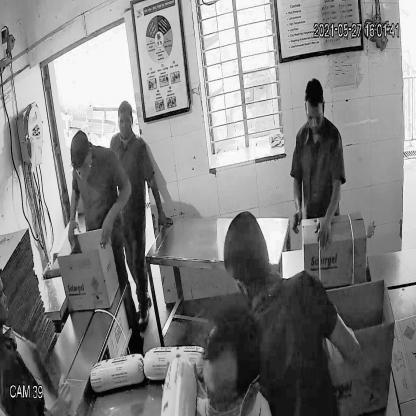no_goggles: (303, 107, 328, 126)
